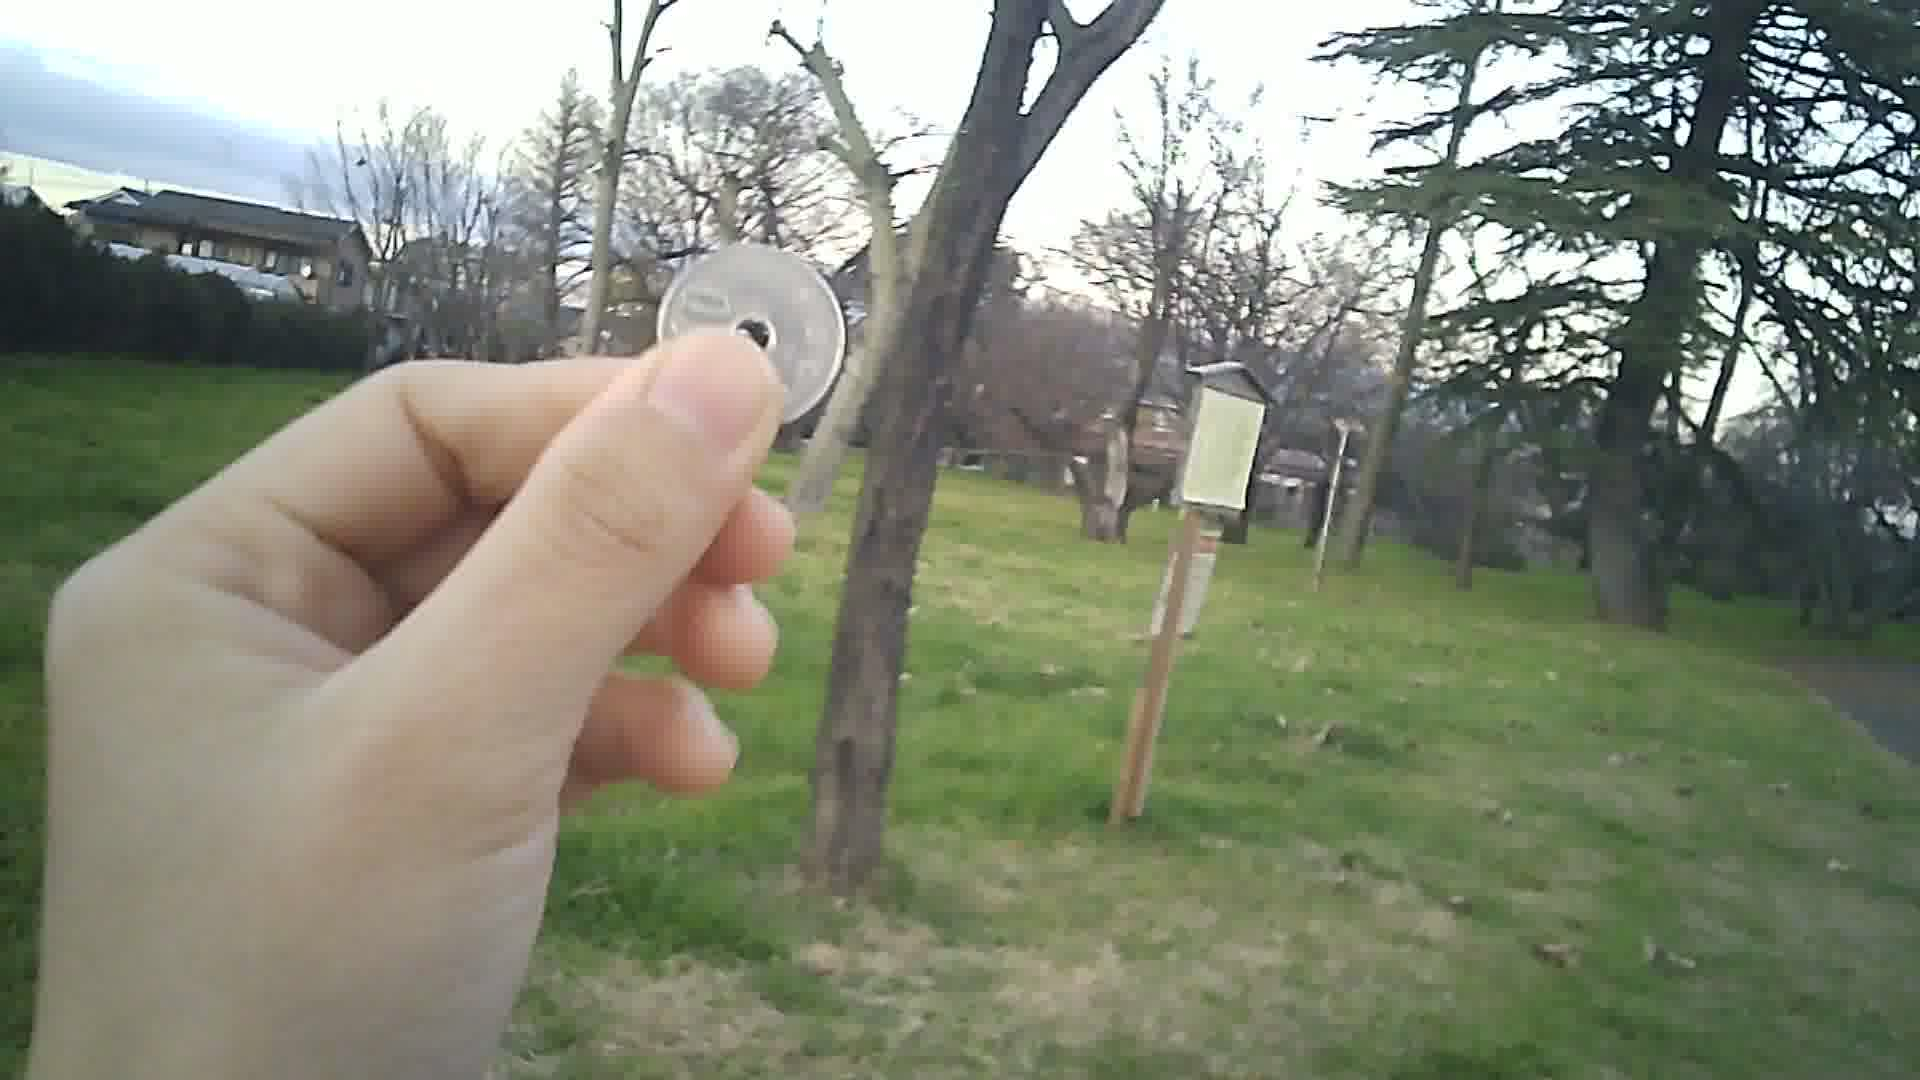50 Yen: (651, 237, 847, 433)
